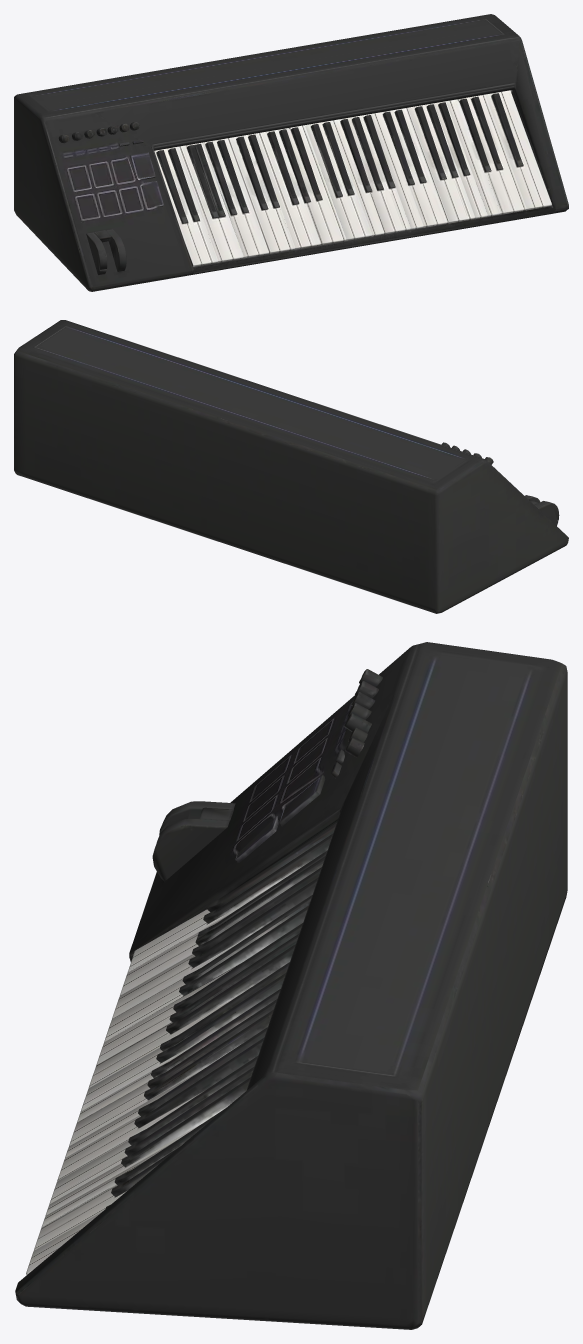
The model's file is keyboard_controller.glb.
The picture shows the model from 3 angles, top to bottom: view 1: azimuth 30°, elevation 25°; view 2: azimuth 150°, elevation 25°; view 3: azimuth 270°, elevation 25°; orthographic projection. The views are drawn at different scales.
Parts seen in each view (by area): view 1: TesanaFacingY180; view 2: TesanaFacingY180; view 3: TesanaFacingY180.
Part boxes in pixels (x1=…): TesanaFacingY180: x1=14, y1=14, x2=568, y2=291; TesanaFacingY180: x1=14, y1=320, x2=568, y2=613; TesanaFacingY180: x1=15, y1=642, x2=567, y2=1329.
Bounding box in the file's own units: 3.89 × 1 × 1.99.
Materials: 1 (1 with a texture image).
